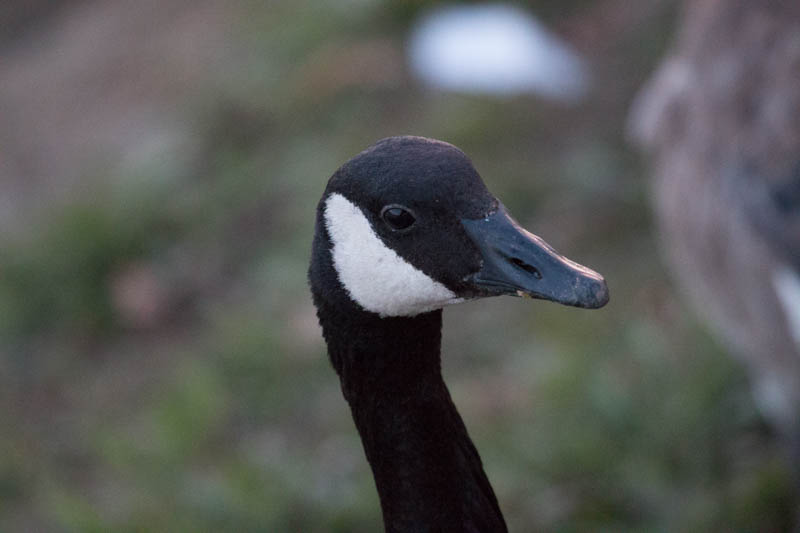goose-head: (308, 136, 610, 321)
